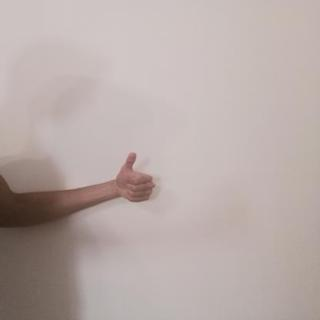ALIF: (109, 146, 159, 209)
